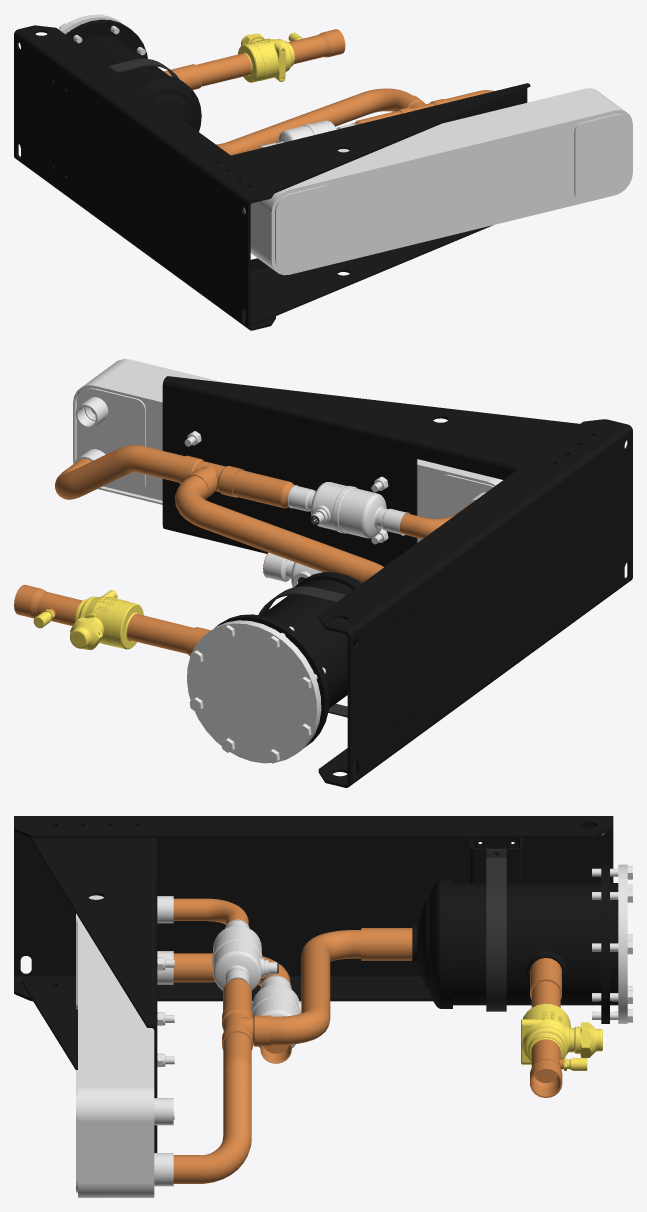
The model's file is Economizer.gltf.
3 views of the same model, one above another, from view 1: azimuth 30°, elevation 25°; view 2: azimuth 150°, elevation 25°; view 3: azimuth 270°, elevation 25° (orthographic). The views are drawn at different scales.
Parts seen in each view (by area): view 1: C62-E-38, Solid1.011, Solid1, Solid1.004, Solid1.005, Solid1.008, Solid1.013, Solid1.003, Solid1.007; view 2: Solid1.011, Solid1, Solid1.004, C62-E-38, Solid1.005, Solid1.008, Solid1.013, Solid1.006, Solid1.014, Solid1.007, Solid1.016, Solid1.003 (+1 smaller); view 3: Solid1.011, Solid1.004, C62-E-38, Solid1, Solid1.005, Solid1.006, Solid1.008, Solid1.003, Solid1.013, Solid1.016, Solid1.015, Solid1.012 (+3 smaller).
Part boxes in pixels (x1=…): C62-E-38: x1=243, y1=88, x2=632, y2=275; Solid1.011: x1=14, y1=25, x2=275, y2=330; Solid1: x1=231, y1=83, x2=530, y2=325; Solid1.004: x1=58, y1=14, x2=202, y2=131; Solid1.005: x1=196, y1=29, x2=345, y2=86; Solid1.008: x1=216, y1=88, x2=411, y2=155; Solid1.013: x1=258, y1=120, x2=355, y2=147; Solid1.003: x1=109, y1=58, x2=179, y2=79; Solid1.007: x1=396, y1=95, x2=447, y2=113; Solid1.011: x1=318, y1=419, x2=632, y2=787; Solid1: x1=162, y1=376, x2=580, y2=566; Solid1.004: x1=186, y1=572, x2=361, y2=763; C62-E-38: x1=73, y1=359, x2=502, y2=544; Solid1.005: x1=14, y1=584, x2=193, y2=653; Solid1.008: x1=175, y1=475, x2=383, y2=583; Solid1.013: x1=287, y1=482, x2=409, y2=538; Solid1.006: x1=55, y1=445, x2=184, y2=499; Solid1.014: x1=232, y1=470, x2=294, y2=508; Solid1.007: x1=177, y1=455, x2=244, y2=499; Solid1.016: x1=263, y1=552, x2=321, y2=587; Solid1.003: x1=258, y1=586, x2=347, y2=717; Solid1.011: x1=14, y1=816, x2=613, y2=1001; Solid1.004: x1=361, y1=864, x2=632, y2=1023; C62-E-38: x1=76, y1=895, x2=174, y2=1197; Solid1: x1=22, y1=837, x2=157, y2=1152; Solid1.005: x1=521, y1=981, x2=602, y2=1097; Solid1.006: x1=173, y1=1032, x2=251, y2=1183; Solid1.008: x1=271, y1=930, x2=361, y2=1045; Solid1.003: x1=486, y1=849, x2=506, y2=1011; Solid1.013: x1=212, y1=919, x2=278, y2=990; Solid1.016: x1=252, y1=975, x2=301, y2=1063; Solid1.015: x1=173, y1=898, x2=248, y2=924; Solid1.012: x1=470, y1=838, x2=522, y2=882.
Size of the model in its own units: 2.34 by 0.7087 by 2.4.
